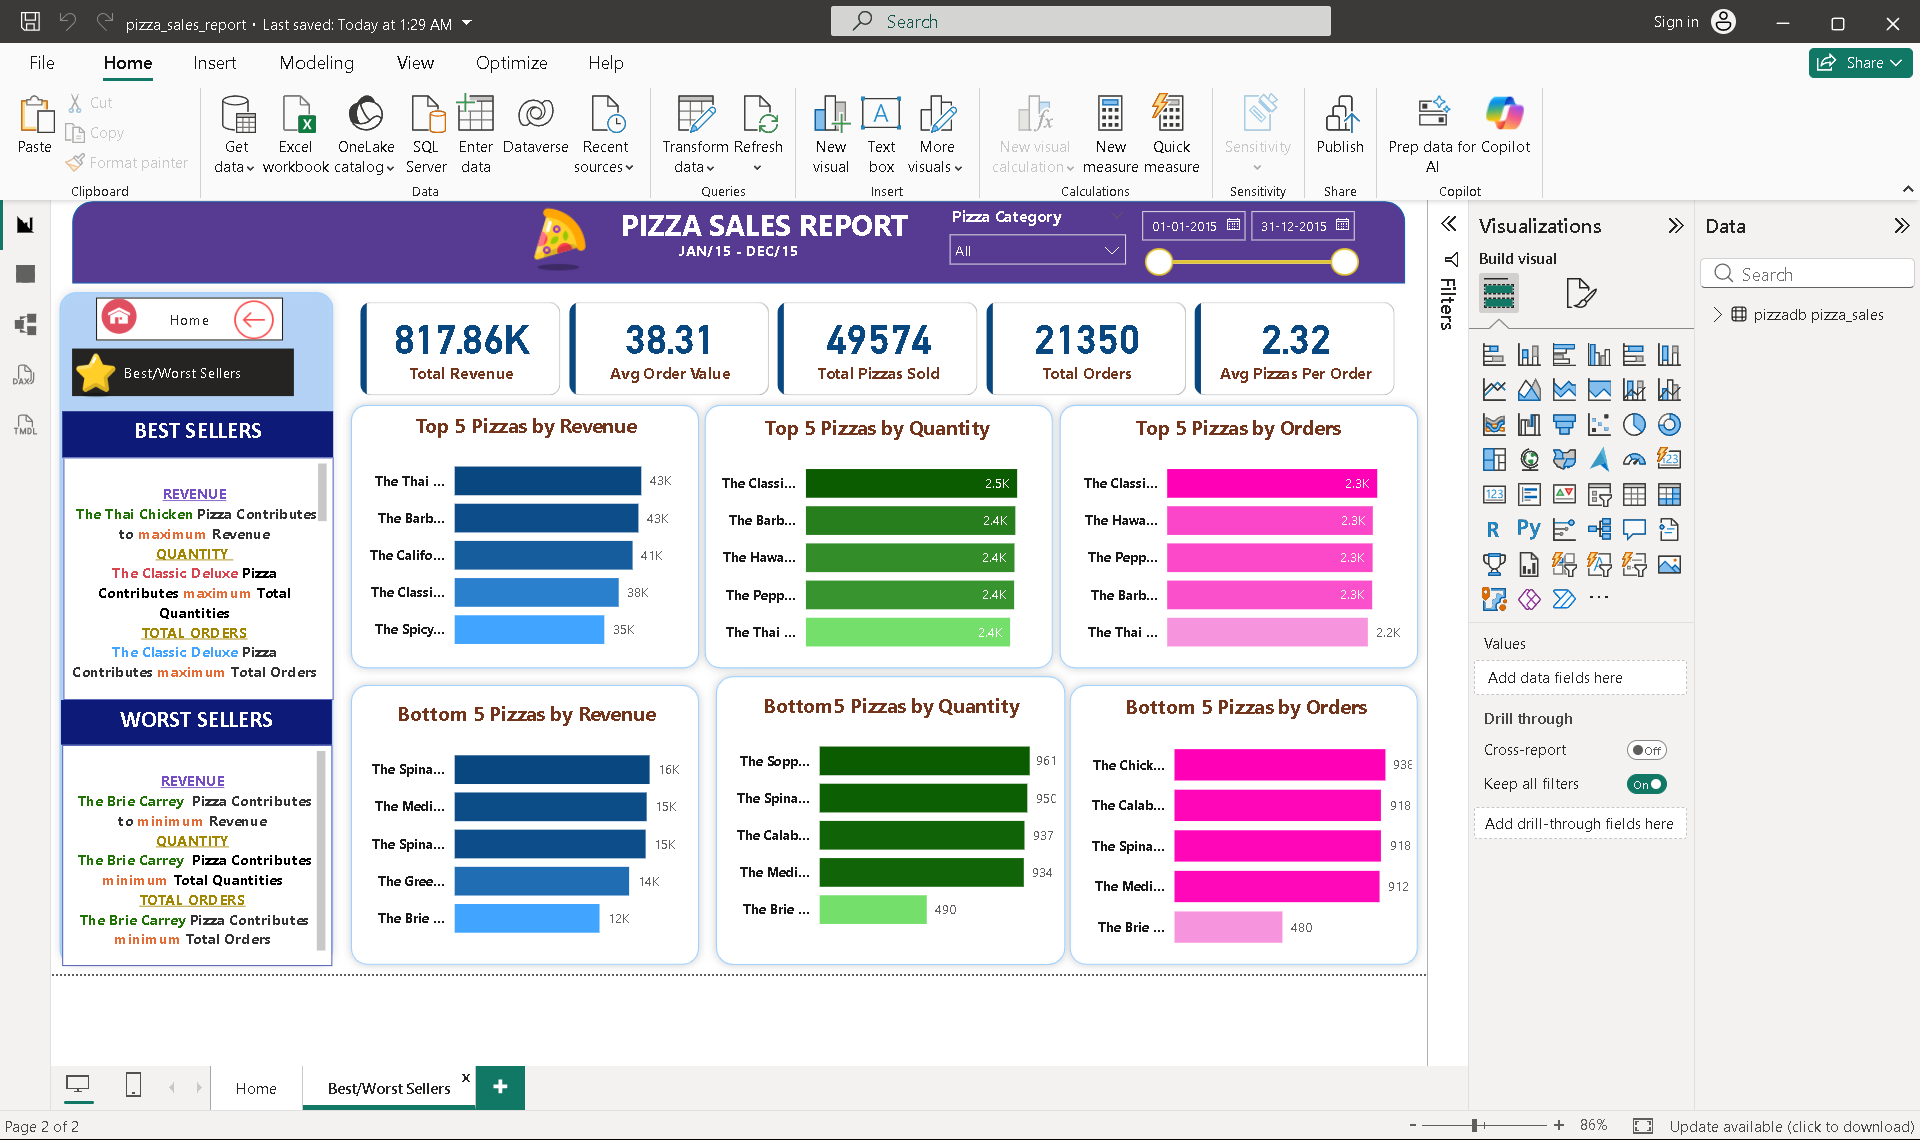

Layout of this report page (visuals, bound fields, positions):
{"tool":"powerbi","page":{"name":"Best/Worst Sellers","canvas":[1280,720],"ordinal":1},"visuals":[{"type":"shape","box":[0,77.6,270.6,642.4],"z":0},{"type":"cardVisual","fields":{"Data":["pizzadb pizza_sales.Total Revenue","pizzadb pizza_sales.Avg Order Value","pizzadb pizza_sales.Total Pizzas Sold","pizzadb pizza_sales.Total Orders","pizzadb pizza_sales.Avg Pizzas Per Order"]},"box":[270.6,77.6,1000,121.2],"z":1000},{"type":"shape","box":[20,1.2,1240,76.5],"z":2000},{"type":"textbox","box":[510.6,0,305.9,47.1],"z":3000},{"type":"textbox","box":[575.3,32.9,128.2,34.1],"z":4000},{"type":"image","box":[425.9,0,92.9,65.9],"z":5000},{"type":"textbox","box":[10.5,196.5,252.3,43],"z":6000},{"type":"textbox","box":[11.6,239.5,251.2,225.6],"z":7000},{"type":"textbox","box":[9.3,465.1,252.3,41.9],"z":8000},{"type":"textbox","box":[10.5,507,251.2,205.8],"z":9000},{"type":"slicer","fields":{"Values":["pizzadb pizza_sales.pizza_category"]},"box":[825.9,0,184.7,64.7],"z":10000},{"type":"slicer","fields":{"Values":["pizzadb pizza_sales.order_date"]},"box":[1002.4,0,222.4,77.6],"z":11000},{"type":"shape","box":[930.6,182.4,349.4,261.2],"z":12000},{"type":"shape","box":[940,443.5,340,276.5],"z":13000},{"type":"shape","box":[600,182.4,340,261.2],"z":14000},{"type":"shape","box":[270.6,182.4,340,261.2],"z":15000},{"type":"shape","box":[270.6,443.5,340,276.5],"z":16000},{"type":"shape","box":[610.6,435.3,341.2,284.7],"z":17000},{"type":"clusteredBarChart","title":"Top 5 Pizzas by Revenue ","fields":{"Category":["pizzadb pizza_sales.pizza_name"],"Y":["pizzadb pizza_sales.Total Revenue"]},"box":[283.5,196.5,316.5,236.5],"z":18000},{"type":"clusteredBarChart","title":"Bottom 5 Pizzas by Revenue ","fields":{"Category":["pizzadb pizza_sales.pizza_name"],"Y":["pizzadb pizza_sales.Total Revenue"]},"box":[283.5,464.7,316.5,236.5],"z":19000},{"type":"clusteredBarChart","title":"Top 5 Pizzas by Quantity","fields":{"Category":["pizzadb pizza_sales.pizza_name"],"Y":["pizzadb pizza_sales.Total Pizzas Sold"]},"box":[610.6,198.8,316.5,236.5],"z":20000},{"type":"clusteredBarChart","title":"Bottom5 Pizzas by Quantity","fields":{"Category":["pizzadb pizza_sales.pizza_name"],"Y":["pizzadb pizza_sales.Total Pizzas Sold"]},"box":[623.5,456.5,316.5,236.5],"z":21000},{"type":"clusteredBarChart","title":"Top 5 Pizzas by Orders","fields":{"Category":["pizzadb pizza_sales.pizza_name"],"Y":["pizzadb pizza_sales.Total Orders"]},"box":[947.1,198.8,316.5,236.5],"z":22000},{"type":"clusteredBarChart","title":"Bottom 5 Pizzas by Orders","fields":{"Category":["pizzadb pizza_sales.pizza_name"],"Y":["pizzadb pizza_sales.Total Orders"]},"box":[951.8,457.6,318.8,254.1],"z":23000},{"type":"pageNavigator","box":[19.8,138.4,207,44.2],"z":23001},{"type":"pageNavigator","box":[41.9,90.7,174.4,40.7],"z":23002},{"type":"image","box":[19.8,131.4,44.2,59.3],"z":23003},{"type":"image","box":[46.5,84.9,33.7,46.5],"z":23004},{"type":"image","box":[161.6,91.9,54.7,39.5],"z":23005}]}

Visuals, with their boxes on the page's 1280x720 design canvas (x1, y1, x2, y2). These are canvas units, not pixel positions in the 1920x1140 screenshot, which may show the page scaled, cropped or inside an application window:
shape: select_region(0, 78, 271, 720)
cardVisual - pizzadb pizza_sales.Total Revenue x pizzadb pizza_sales.Avg Order Value: select_region(271, 78, 1271, 199)
shape: select_region(20, 1, 1260, 78)
textbox: select_region(511, 0, 816, 47)
textbox: select_region(575, 33, 704, 67)
image: select_region(426, 0, 519, 66)
textbox: select_region(10, 196, 263, 240)
textbox: select_region(12, 240, 263, 465)
textbox: select_region(9, 465, 262, 507)
textbox: select_region(10, 507, 262, 713)
slicer - pizzadb pizza_sales.pizza_category: select_region(826, 0, 1011, 65)
slicer - pizzadb pizza_sales.order_date: select_region(1002, 0, 1225, 78)
shape: select_region(931, 182, 1280, 444)
shape: select_region(940, 444, 1280, 720)
shape: select_region(600, 182, 940, 444)
shape: select_region(271, 182, 611, 444)
shape: select_region(271, 444, 611, 720)
shape: select_region(611, 435, 952, 720)
"Top 5 Pizzas by Revenue " clusteredBarChart: select_region(284, 196, 600, 433)
"Bottom 5 Pizzas by Revenue " clusteredBarChart: select_region(284, 465, 600, 701)
"Top 5 Pizzas by Quantity" clusteredBarChart: select_region(611, 199, 927, 435)
"Bottom5 Pizzas by Quantity" clusteredBarChart: select_region(624, 456, 940, 693)
"Top 5 Pizzas by Orders" clusteredBarChart: select_region(947, 199, 1264, 435)
"Bottom 5 Pizzas by Orders" clusteredBarChart: select_region(952, 458, 1271, 712)
pageNavigator: select_region(20, 138, 227, 183)
pageNavigator: select_region(42, 91, 216, 131)
image: select_region(20, 131, 64, 191)
image: select_region(46, 85, 80, 131)
image: select_region(162, 92, 216, 131)
